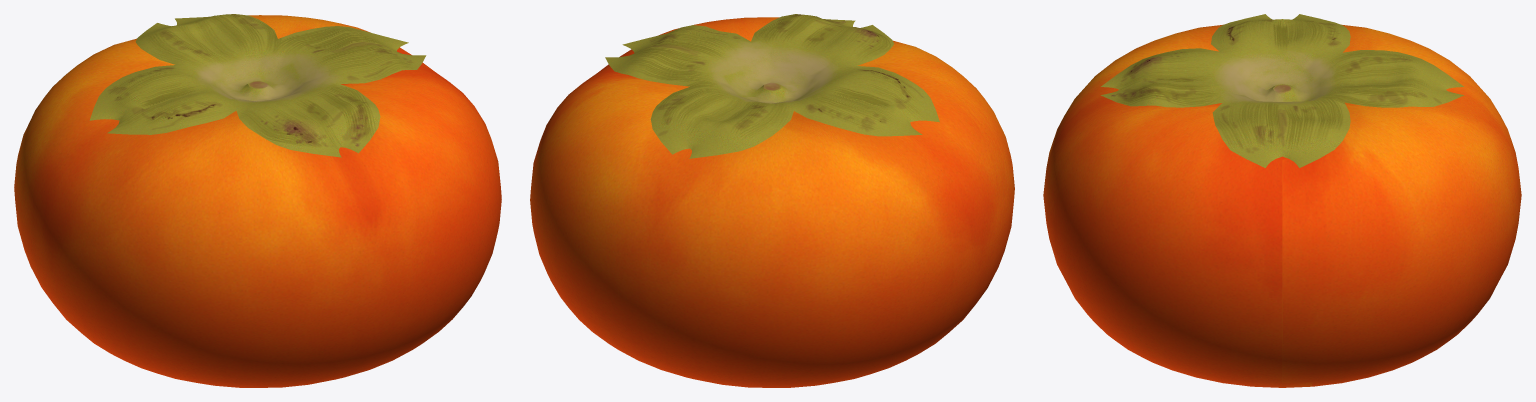
The model's file is Persimmon_02.FBX.
3 views of the same model, side by side, from view 1: azimuth 30°, elevation 25°; view 2: azimuth 150°, elevation 25°; view 3: azimuth 270°, elevation 25° (orthographic).
Parts seen in each view (by area): view 1: Box001, オブジェクト001; view 2: Box001, オブジェクト001; view 3: Box001, オブジェクト001.
Part boxes in pixels (left/top/right/bottom): Box001: left=14, top=15, right=501, bottom=387; オブジェクト001: left=89, top=14, right=426, bottom=157; Box001: left=530, top=17, right=1014, bottom=387; オブジェクト001: left=605, top=14, right=939, bottom=158; Box001: left=1043, top=24, right=1521, bottom=387; オブジェクト001: left=1101, top=14, right=1463, bottom=167.
Bounding box in the file's own units: 48.74 × 48.74 × 31.06.
1 material, 1 textured.
